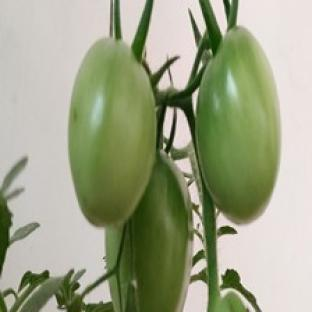Tomato: (69, 39, 155, 225), (197, 27, 279, 222), (120, 154, 192, 311), (218, 292, 246, 311)
